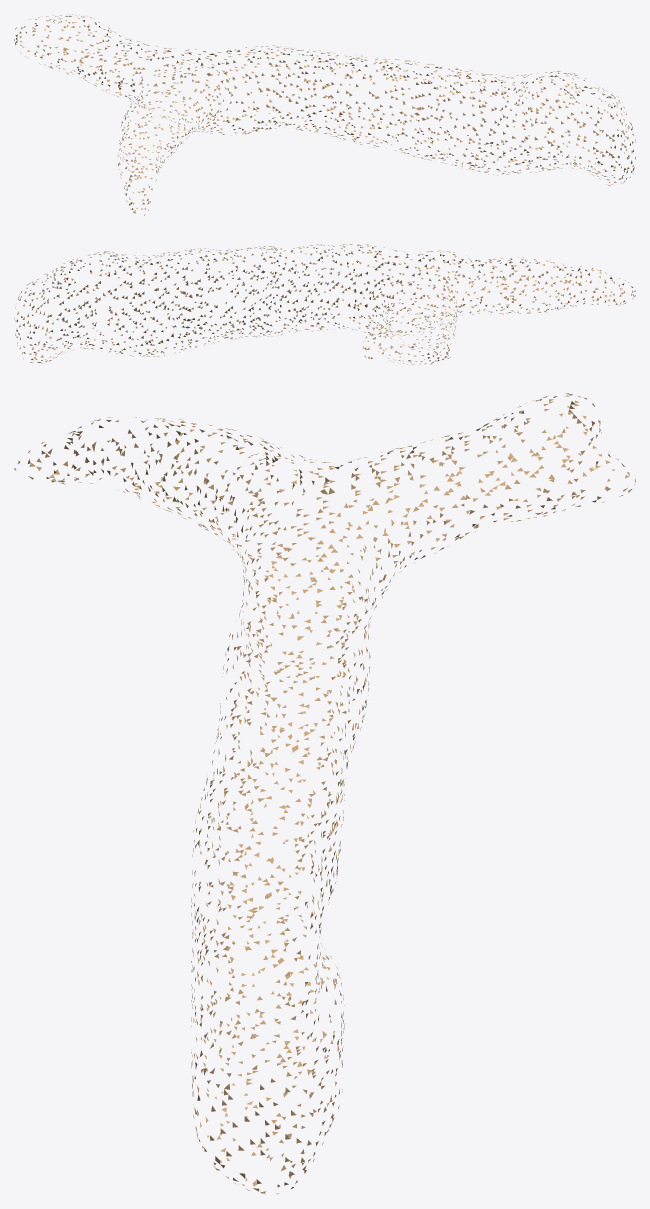
The model's file is morph_006.glb.
The picture shows the model from 3 angles, top to bottom: view 1: azimuth 30°, elevation 25°; view 2: azimuth 150°, elevation 25°; view 3: azimuth 270°, elevation 25°; orthographic projection. The views are drawn at different scales.
Bounding box in the file's own units: 131 × 49.28 × 72.28.
